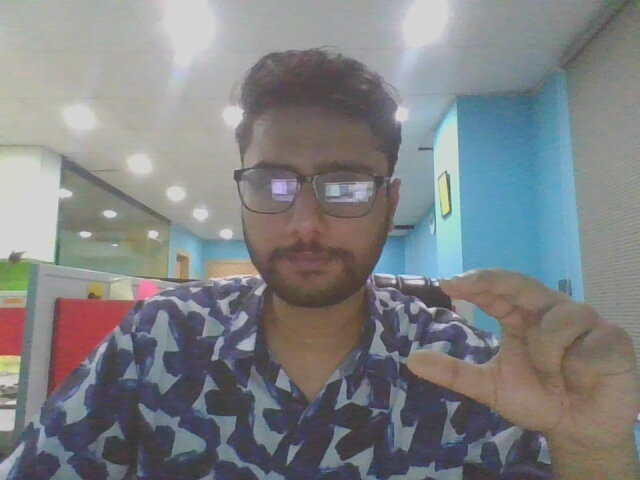no: (401, 249, 640, 480)
